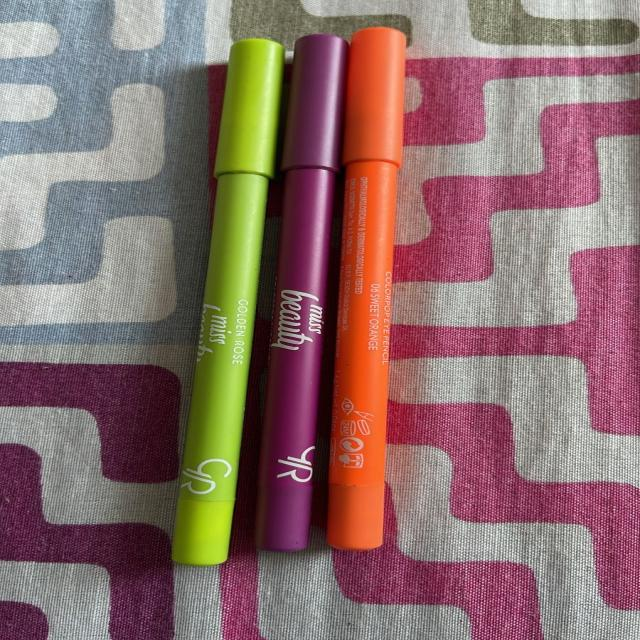eye liner: (136, 19, 418, 579), (150, 25, 295, 586), (224, 6, 360, 576), (309, 17, 431, 570)
